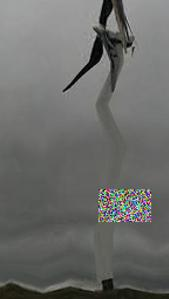faulty: (62, 3, 138, 108)
